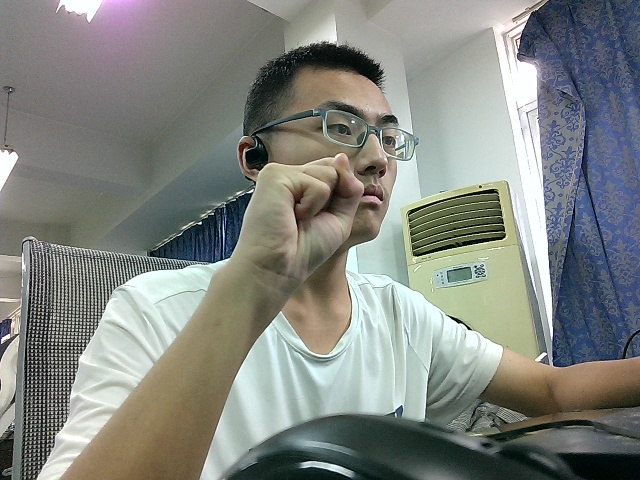stone: (238, 153, 370, 274)
